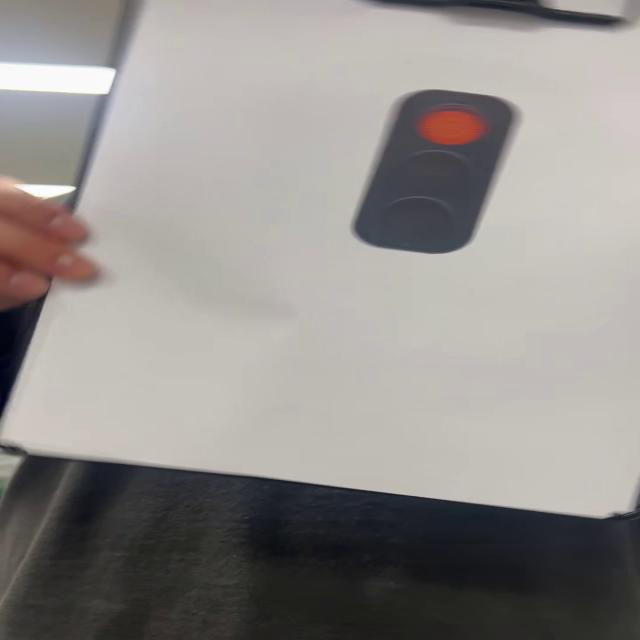red: (345, 91, 526, 256)
